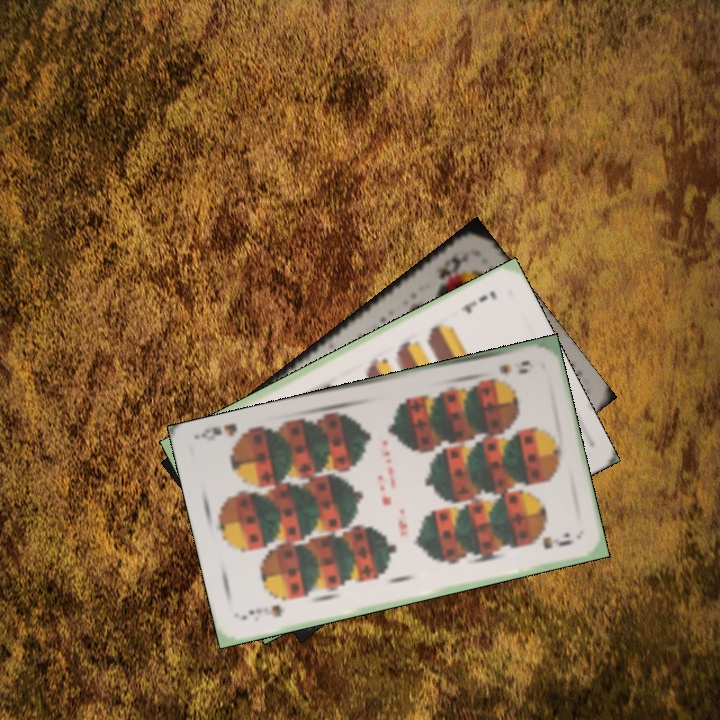E7: (458, 286, 500, 316)
S9: (238, 600, 286, 623), (495, 356, 533, 377)
SK: (434, 250, 469, 283)
